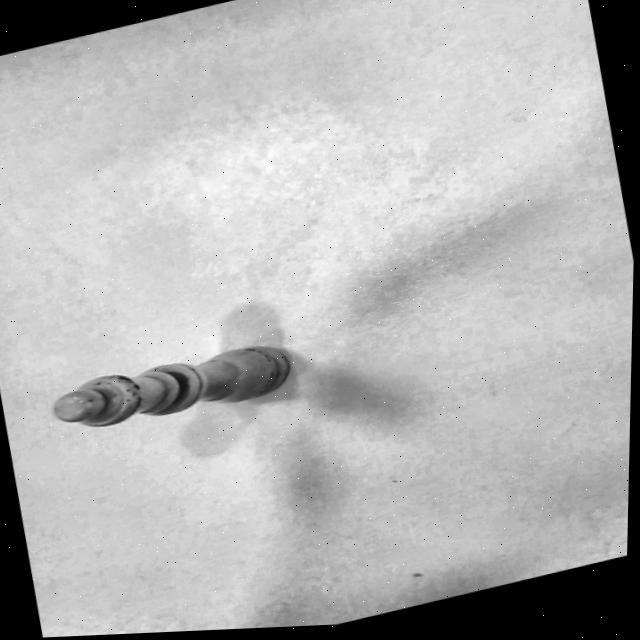white-queen: (28, 325, 314, 456)
